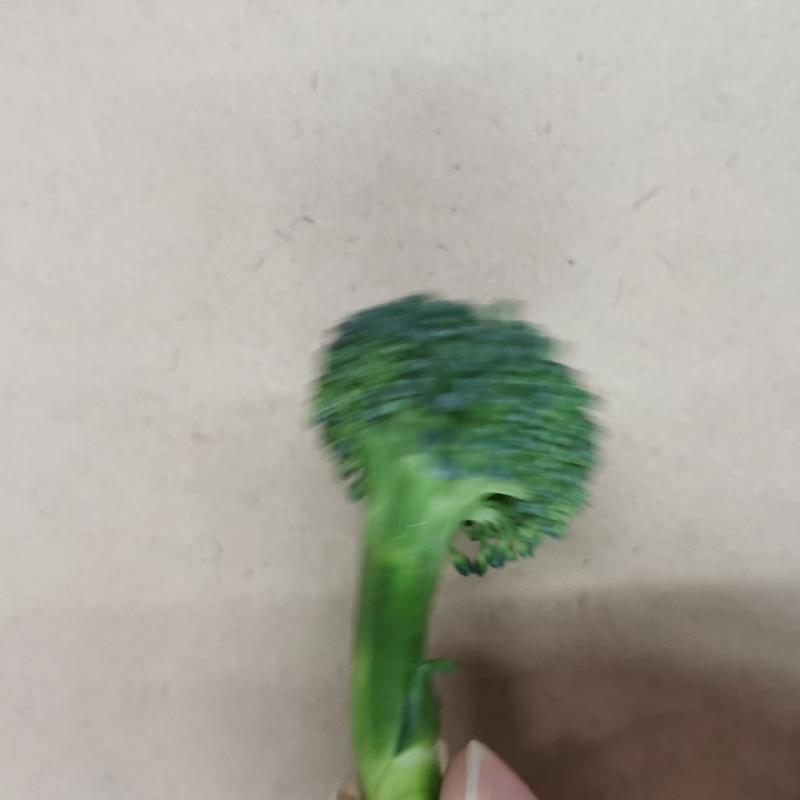broccoli: (306, 288, 600, 800)
